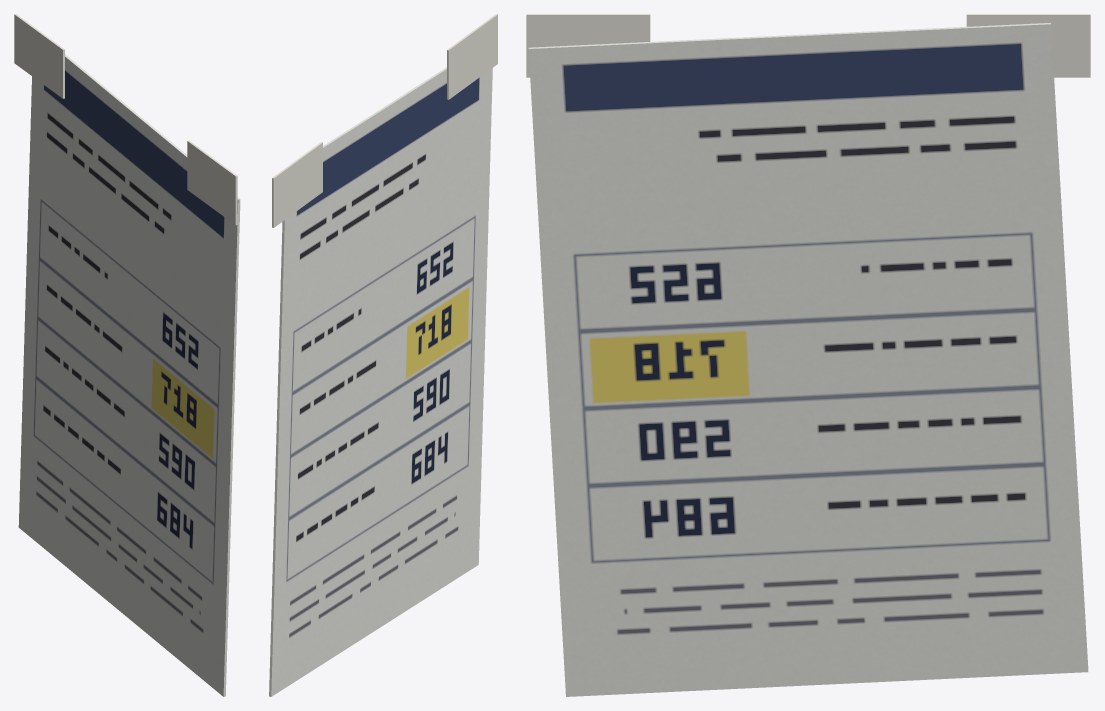
Rendered from escena.casa.resultados_paes.fbx.
The picture shows the model from 3 angles, left to right: view 1: azimuth 30°, elevation 25°; view 2: azimuth 150°, elevation 25°; view 3: azimuth 270°, elevation 25°; orthographic projection. The views are drawn at different scales.
Visible parts, largest first — view 1: Resultados de la PAES, Cinta.001, Cinta; view 2: Resultados de la PAES, Cinta, Cinta.001; view 3: Resultados de la PAES, Cinta.001, Cinta.
Part boxes in pixels (bbox=[...]): Resultados de la PAES: bbox=[18, 54, 240, 696]; Cinta.001: bbox=[187, 140, 237, 225]; Cinta: bbox=[14, 14, 64, 98]; Resultados de la PAES: bbox=[269, 67, 492, 696]; Cinta: bbox=[272, 142, 322, 227]; Cinta.001: bbox=[447, 14, 497, 99]; Resultados de la PAES: bbox=[528, 23, 1088, 696]; Cinta.001: bbox=[526, 14, 650, 77]; Cinta: bbox=[966, 14, 1090, 77].
Size of the model in its own units: 0.003 by 0.2723 by 0.205.
Materials: 2 (1 with a texture image).
